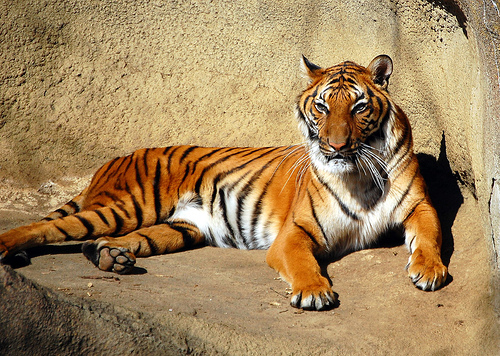Tigre: (31, 72, 477, 314)
